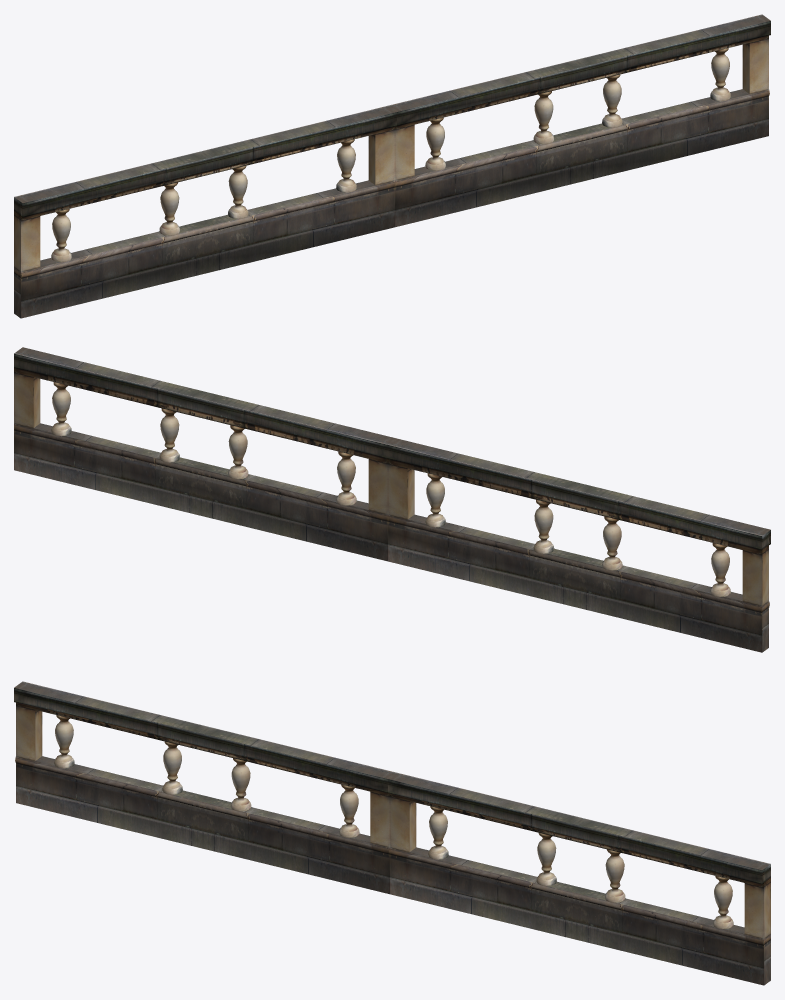
The model's file is ornatewall.obj.
3 views of the same model, one above another, from view 1: azimuth 30°, elevation 25°; view 2: azimuth 150°, elevation 25°; view 3: azimuth 330°, elevation 25° (orthographic).
Parts seen in each view (by area): view 1: def_surf_mat; view 2: def_surf_mat; view 3: def_surf_mat.
Part boxes in pixels (bbox=[...]): def_surf_mat: bbox=[14, 14, 770, 318]; def_surf_mat: bbox=[14, 347, 770, 652]; def_surf_mat: bbox=[14, 681, 770, 985].
Size of the model in its own units: 267 by 39.8 by 6.79.
Materials: 1 (1 with a texture image).
